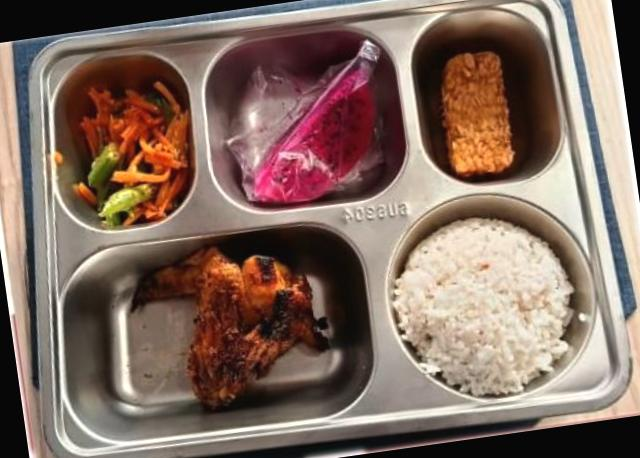ayam: (131, 247, 327, 409)
buah: (251, 41, 378, 203)
nasi: (391, 218, 574, 396)
sayur: (75, 81, 189, 223)
tempe: (440, 52, 514, 177)
